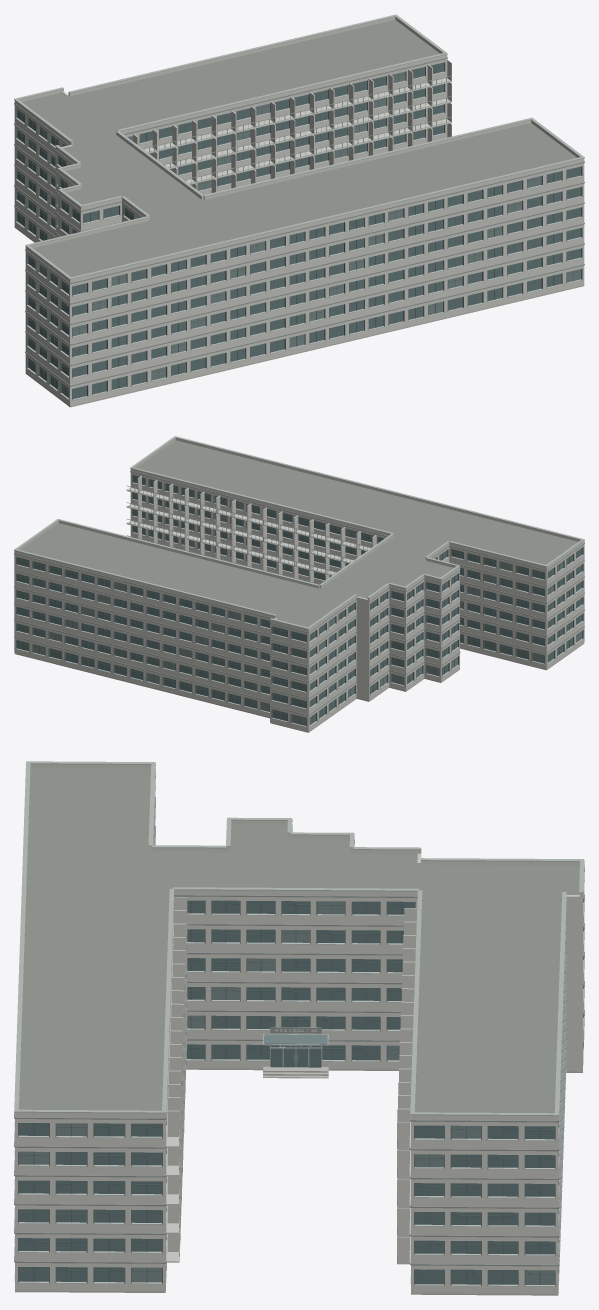
Rendered from south_dorm364_365.glb.
3 renders of one model, top to bottom at view 1: azimuth 30°, elevation 25°; view 2: azimuth 150°, elevation 25°; view 3: azimuth 270°, elevation 25°, orthographic. The views are drawn at different scales.
Visible parts, largest first — view 1: south_dorm364_365_SouthDormPlaster, south_dorm364_365_FacultyRoof, south_dorm364_365_WindowGlass, south_dorm364_365_FacultyDarkPanel, south_dorm364_365_WindowAluminium, south_dorm364_365_WindowReveal, south_dorm364_365_Teaching5TileJoint, south_dorm364_365_WindowRubber, south_dorm364_365_WindowGlassLight, south_dorm364_365_BalconyRail, south_dorm364_365_EntryStone; view 2: south_dorm364_365_SouthDormPlaster, south_dorm364_365_FacultyRoof, south_dorm364_365_WindowGlass, south_dorm364_365_WindowReveal, south_dorm364_365_FacultyDarkPanel, south_dorm364_365_WindowAluminium, south_dorm364_365_WindowRubber, south_dorm364_365_Teaching5TileJoint, south_dorm364_365_WindowGlassLight, south_dorm364_365_BalconyRail, south_dorm364_365_EntryStone; view 3: south_dorm364_365_FacultyRoof, south_dorm364_365_SouthDormPlaster, south_dorm364_365_WindowGlass, south_dorm364_365_Teaching5TileJoint, south_dorm364_365_FacultyDarkPanel, south_dorm364_365_WindowAluminium, south_dorm364_365_WindowGlassLight, south_dorm364_365_WindowRubber, south_dorm364_365_WindowReveal, south_dorm364_365_EntryStone, south_dorm364_365_BalconyRail.
Boxes of the visible parts, x1=… form: south_dorm364_365_SouthDormPlaster: x1=14, y1=17, x2=584, y2=406; south_dorm364_365_FacultyRoof: x1=22, y1=20, x2=576, y2=277; south_dorm364_365_WindowGlass: x1=17, y1=62, x2=581, y2=398; south_dorm364_365_FacultyDarkPanel: x1=14, y1=57, x2=584, y2=386; south_dorm364_365_WindowAluminium: x1=15, y1=71, x2=582, y2=400; south_dorm364_365_WindowReveal: x1=15, y1=62, x2=582, y2=400; south_dorm364_365_Teaching5TileJoint: x1=14, y1=14, x2=584, y2=279; south_dorm364_365_WindowRubber: x1=17, y1=64, x2=581, y2=397; south_dorm364_365_WindowGlassLight: x1=17, y1=71, x2=581, y2=397; south_dorm364_365_BalconyRail: x1=142, y1=75, x2=451, y2=183; south_dorm364_365_EntryStone: x1=14, y1=227, x2=584, y2=407; south_dorm364_365_SouthDormPlaster: x1=14, y1=438, x2=584, y2=731; south_dorm364_365_FacultyRoof: x1=20, y1=440, x2=577, y2=627; south_dorm364_365_WindowGlass: x1=17, y1=475, x2=582, y2=724; south_dorm364_365_WindowReveal: x1=16, y1=475, x2=583, y2=726; south_dorm364_365_FacultyDarkPanel: x1=14, y1=471, x2=584, y2=715; south_dorm364_365_WindowAluminium: x1=16, y1=482, x2=583, y2=727; south_dorm364_365_WindowRubber: x1=17, y1=477, x2=582, y2=724; south_dorm364_365_Teaching5TileJoint: x1=14, y1=436, x2=584, y2=629; south_dorm364_365_WindowGlassLight: x1=33, y1=500, x2=582, y2=725; south_dorm364_365_BalconyRail: x1=126, y1=485, x2=371, y2=584; south_dorm364_365_EntryStone: x1=14, y1=643, x2=584, y2=732; south_dorm364_365_FacultyRoof: x1=19, y1=768, x2=579, y2=1113; south_dorm364_365_SouthDormPlaster: x1=15, y1=764, x2=583, y2=1293; south_dorm364_365_WindowGlass: x1=18, y1=900, x2=554, y2=1284; south_dorm364_365_Teaching5TileJoint: x1=14, y1=761, x2=584, y2=1116; south_dorm364_365_FacultyDarkPanel: x1=14, y1=769, x2=584, y2=1266; south_dorm364_365_WindowAluminium: x1=14, y1=789, x2=584, y2=1286; south_dorm364_365_WindowGlassLight: x1=18, y1=901, x2=554, y2=1284; south_dorm364_365_WindowRubber: x1=18, y1=901, x2=554, y2=1284; south_dorm364_365_WindowReveal: x1=18, y1=899, x2=583, y2=1286; south_dorm364_365_EntryStone: x1=15, y1=1066, x2=582, y2=1295; south_dorm364_365_BalconyRail: x1=179, y1=915, x2=397, y2=1262.
Size of the model in its own units: 84.84 by 20.22 by 57.83.
